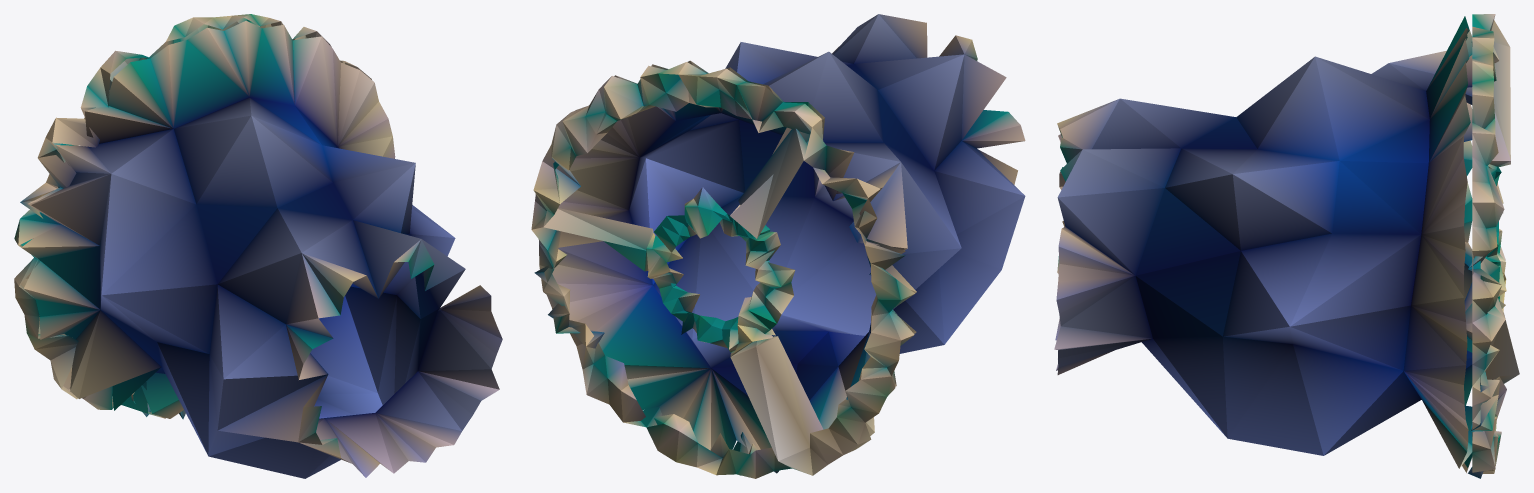
File: lamp_shade_2_final400.obj
3 views of the same model, side by side, from view 1: azimuth 30°, elevation 25°; view 2: azimuth 150°, elevation 25°; view 3: azimuth 270°, elevation 25° (orthographic). The views are drawn at different scales.
Bounding box in the file's own units: 1.2 × 1.21 × 1.21.
